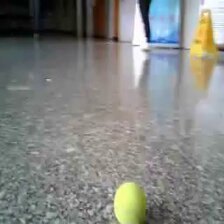tennis: (114, 183, 148, 224)
